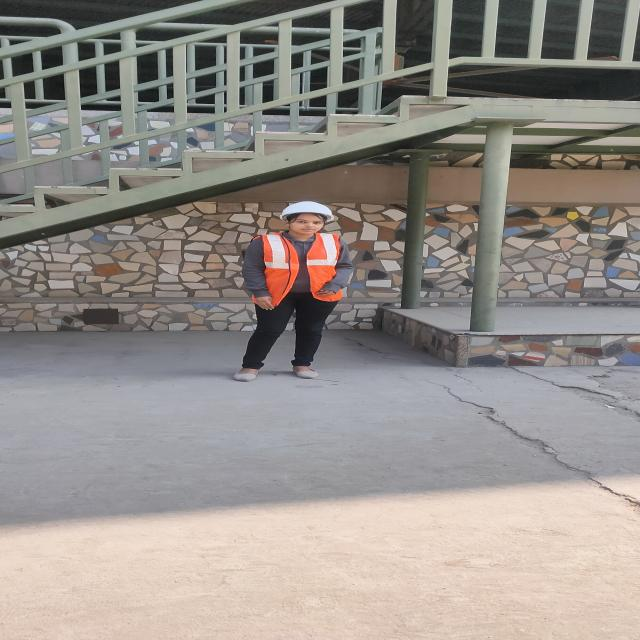safe: (243, 202, 352, 378)
